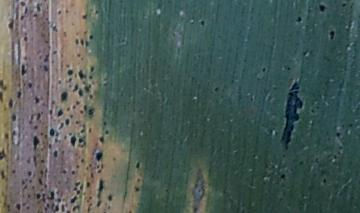tarspot: (280, 78, 305, 151), (95, 177, 104, 208), (326, 25, 337, 43), (93, 147, 104, 165), (276, 169, 289, 183), (316, 1, 328, 15), (66, 193, 80, 205), (81, 81, 95, 93), (30, 134, 40, 150), (292, 14, 305, 26), (319, 174, 330, 188), (13, 200, 24, 213), (23, 80, 36, 91), (6, 18, 16, 32), (58, 90, 69, 102), (85, 106, 96, 118), (196, 16, 208, 27), (18, 63, 28, 76), (87, 63, 98, 74), (51, 149, 61, 161), (46, 190, 56, 202), (77, 68, 85, 83), (8, 112, 18, 124), (60, 200, 69, 213), (339, 1, 350, 11), (65, 66, 75, 77), (68, 136, 78, 147), (86, 32, 96, 43), (15, 87, 23, 100), (333, 129, 343, 139), (80, 12, 90, 22), (104, 193, 115, 202), (48, 126, 55, 139), (33, 94, 40, 107), (134, 159, 141, 172), (55, 108, 64, 118), (33, 191, 43, 200), (1, 148, 7, 163), (132, 183, 141, 193), (98, 134, 107, 144), (64, 117, 72, 128), (71, 81, 79, 92), (69, 167, 77, 178), (261, 63, 268, 75), (84, 179, 90, 191), (74, 37, 80, 49)
